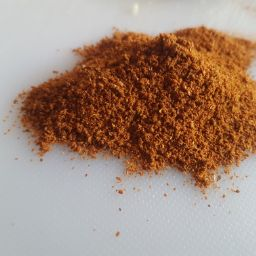Garam masala: (66, 22, 256, 246), (14, 28, 256, 192), (2, 65, 210, 198), (116, 42, 229, 144)
